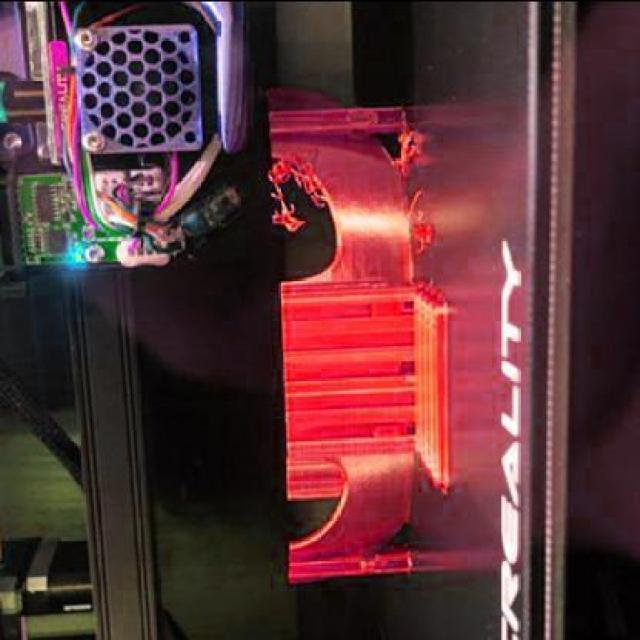spaghetti: (267, 155, 335, 232), (403, 188, 437, 254), (393, 118, 416, 180)
